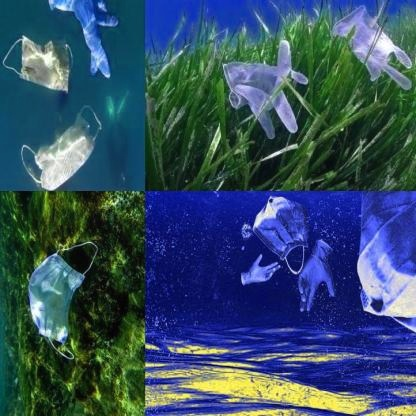Mask: (334, 191, 416, 353), (29, 240, 100, 360), (22, 104, 102, 190), (240, 191, 324, 272), (0, 30, 74, 93)
glove: (222, 38, 310, 140), (333, 2, 415, 90), (49, 0, 117, 78)
